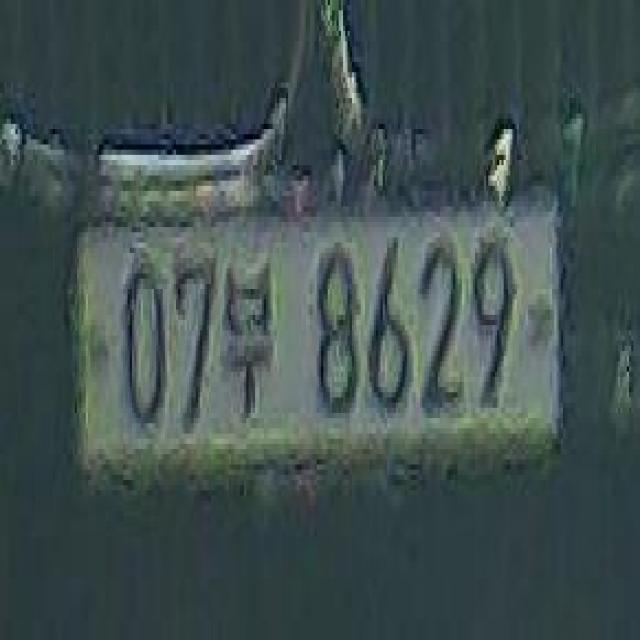illegal_plate: (61, 183, 580, 532)
